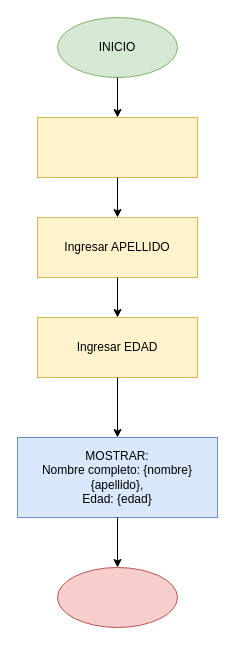
The diagram is 235 pixels wide and 645 high, and some of its shapes have lost their labels. Each missing label, with the box of its shape:
FIN: (56, 566, 178, 628)
Ingresar NOMBRE: (36, 116, 198, 178)
